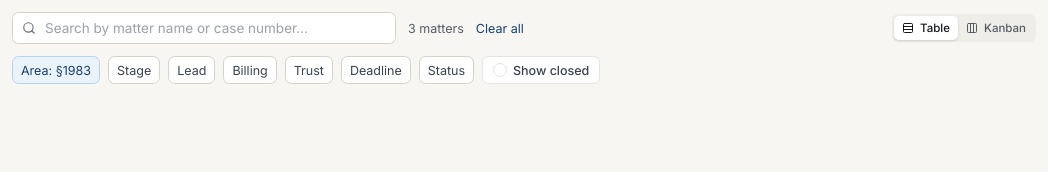
Test: MattersToolbar — search debounce (F318) › Clear all cancels a pending search and empties the box
Type "alv" into the field named "Search matters". click: (204, 28)
box: left=12, top=12, right=396, bottom=44
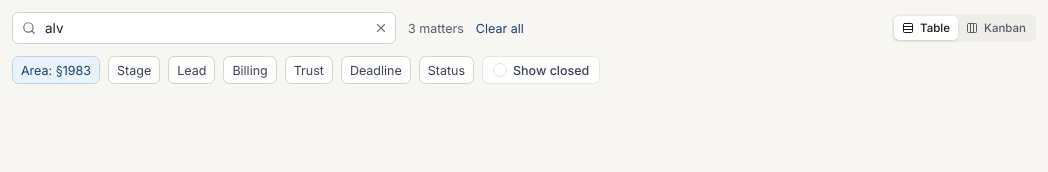
Click the button "Clear all". click: click(500, 28)
box: left=476, top=20, right=524, bottom=36
Wait 1000 ms
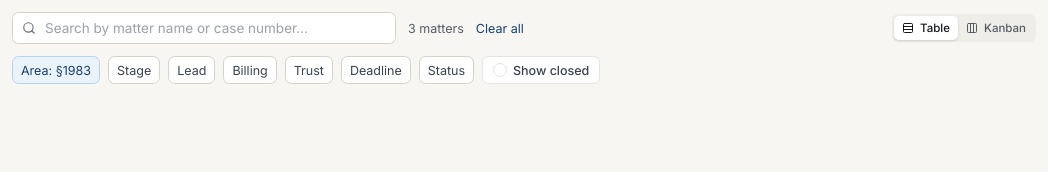
Expected: the field named "Search matters" is empty, left=12, top=12, right=396, bottom=44
